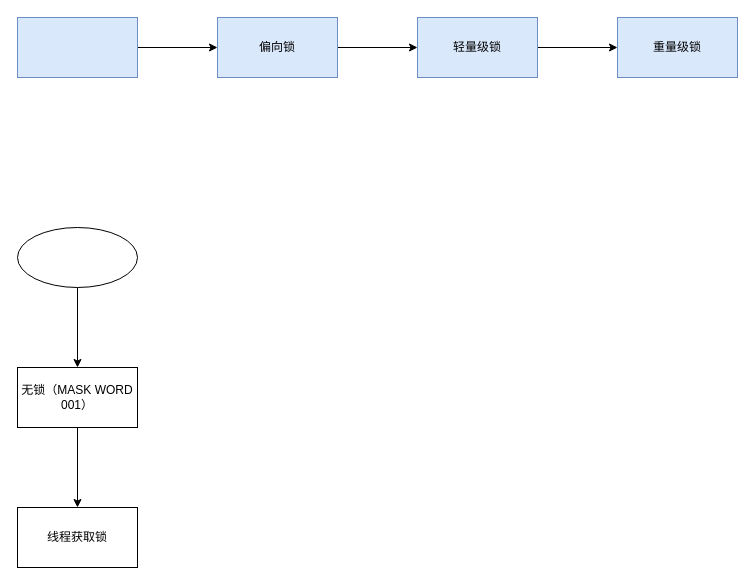
Some shapes in this 755 by 585 pixel diagram are drawn without their labels. The box of each missing label's shape, as (x1, y1, x2, y2) in pixels:
开始: (16, 226, 138, 288)
无锁: (16, 16, 138, 78)
